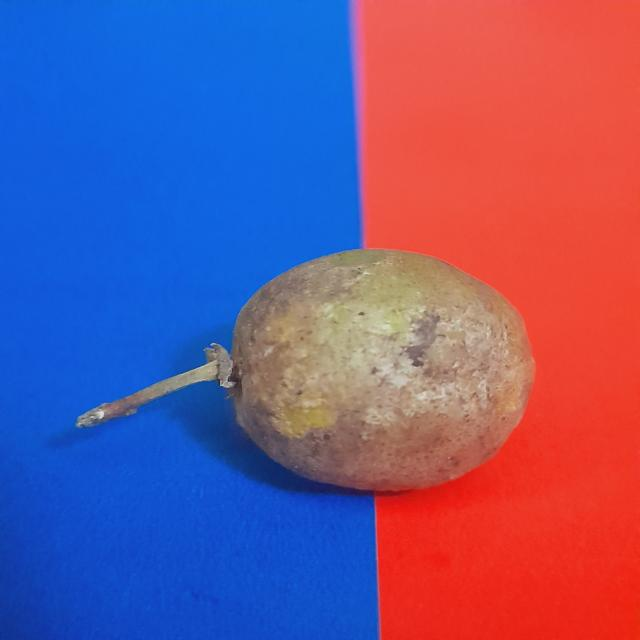thrips: (220, 238, 542, 493)
